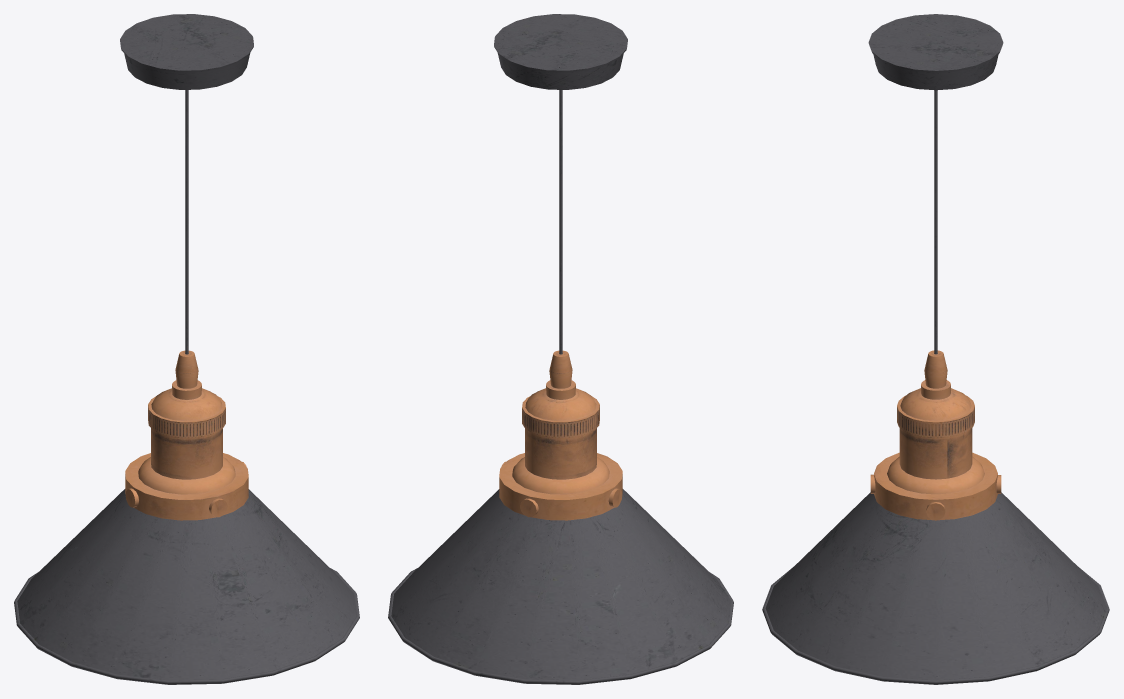
Rendered from lamp.fbx.
The picture shows the model from 3 angles, left to right: view 1: azimuth 30°, elevation 25°; view 2: azimuth 150°, elevation 25°; view 3: azimuth 270°, elevation 25°; orthographic projection.
Visible parts, largest first — view 1: re_lamp_02_0; view 2: re_lamp_02_0; view 3: re_lamp_02_0.
Part boxes in pixels (<box>): re_lamp_02_0: <box>14,14,359,684</box>; re_lamp_02_0: <box>388,14,733,684</box>; re_lamp_02_0: <box>762,14,1109,684</box>.
Size of the model in its own units: 66.62 by 125 by 66.62.
1 material, 1 textured.
